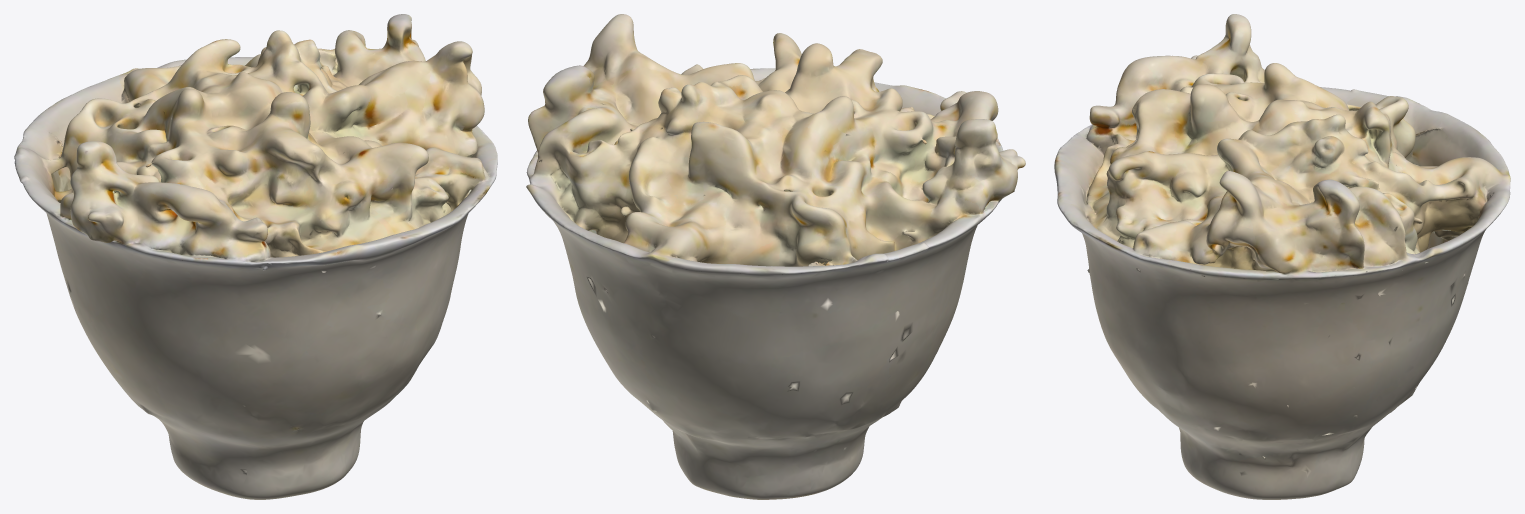
File: Cheese_pasta.glb
3 renders of one model, left to right at view 1: azimuth 30°, elevation 25°; view 2: azimuth 150°, elevation 25°; view 3: azimuth 270°, elevation 25°, orthographic. The views are drawn at different scales.
Size of the model in its own units: 1.97 by 1.81 by 1.97.
1 material, 1 textured.
